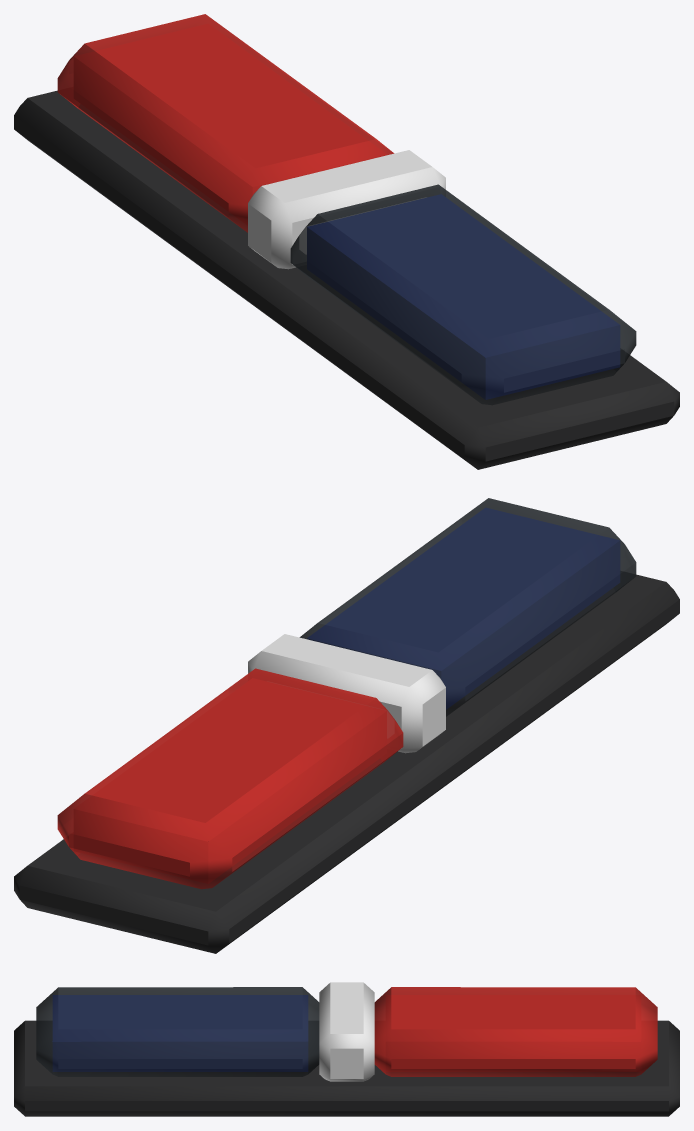
File: lightbar.glb
3 views of the same model, one above another, from view 1: azimuth 30°, elevation 25°; view 2: azimuth 150°, elevation 25°; view 3: azimuth 270°, elevation 25° (orthographic). The views are drawn at different scales.
Parts seen in each view (by area): view 1: body-trim, body-glass_tint, beacon_b-emit_beacon_b, body-lens_red, beacon_r-emit_beacon_r, body-chrome; view 2: body-trim, body-lens_red, beacon_r-emit_beacon_r, body-glass_tint, beacon_b-emit_beacon_b, body-chrome; view 3: body-trim, body-glass_tint, body-lens_red, beacon_b-emit_beacon_b, beacon_r-emit_beacon_r, body-chrome.
Boxes of the visible parts, x1,y1,x2,y2 form: body-trim: (14, 90, 679, 469); body-glass_tint: (290, 184, 636, 405); beacon_b-emit_beacon_b: (307, 194, 620, 399); body-lens_red: (57, 14, 394, 232); beacon_r-emit_beacon_r: (74, 24, 386, 224); body-chrome: (248, 150, 445, 269); body-trim: (14, 574, 679, 953); body-lens_red: (57, 668, 403, 889); beacon_r-emit_beacon_r: (73, 678, 386, 883); body-glass_tint: (299, 498, 636, 716); beacon_b-emit_beacon_b: (307, 508, 619, 709); body-chrome: (248, 634, 445, 753); body-trim: (14, 1020, 679, 1116); body-glass_tint: (36, 987, 319, 1076); body-lens_red: (374, 987, 657, 1076); beacon_b-emit_beacon_b: (52, 995, 307, 1071); beacon_r-emit_beacon_r: (386, 995, 641, 1071); body-chrome: (319, 982, 374, 1081).
Size of the model in its own units: 0.3203 by 0.15 by 1.2.
